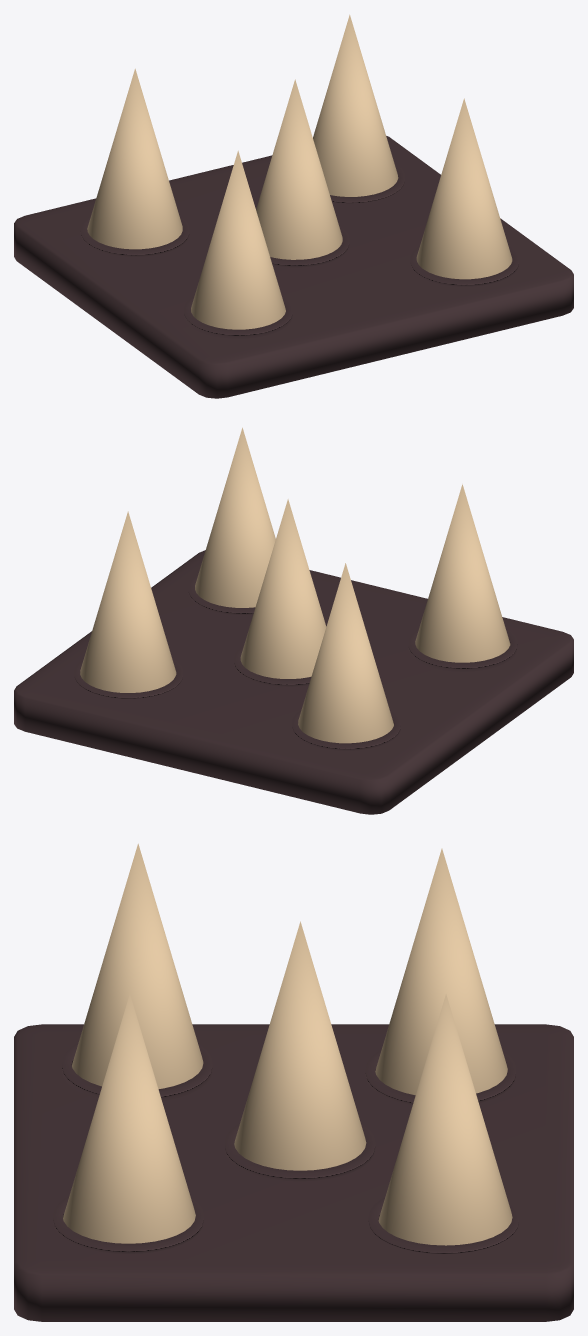
Rendered from PlataformaPinchos.fbx.
3 views of the same model, one above another, from view 1: azimuth 30°, elevation 25°; view 2: azimuth 150°, elevation 25°; view 3: azimuth 270°, elevation 25° (orthographic). The views are drawn at different scales.
Visible parts, largest first — view 1: Cube, Cono.005; view 2: Cube, Cono.005; view 3: Cube, Cono.005.
Boxes of the visible parts, x1=… form: Cube: x1=14, y1=136, x2=573, y2=398; Cono.005: x1=87, y1=14, x2=512, y2=329; Cube: x1=14, y1=550, x2=573, y2=814; Cono.005: x1=80, y1=427, x2=510, y2=743; Cube: x1=14, y1=1024, x2=573, y2=1321; Cono.005: x1=63, y1=843, x2=512, y2=1245.
Size of the model in its own units: 213 by 111 by 201.
